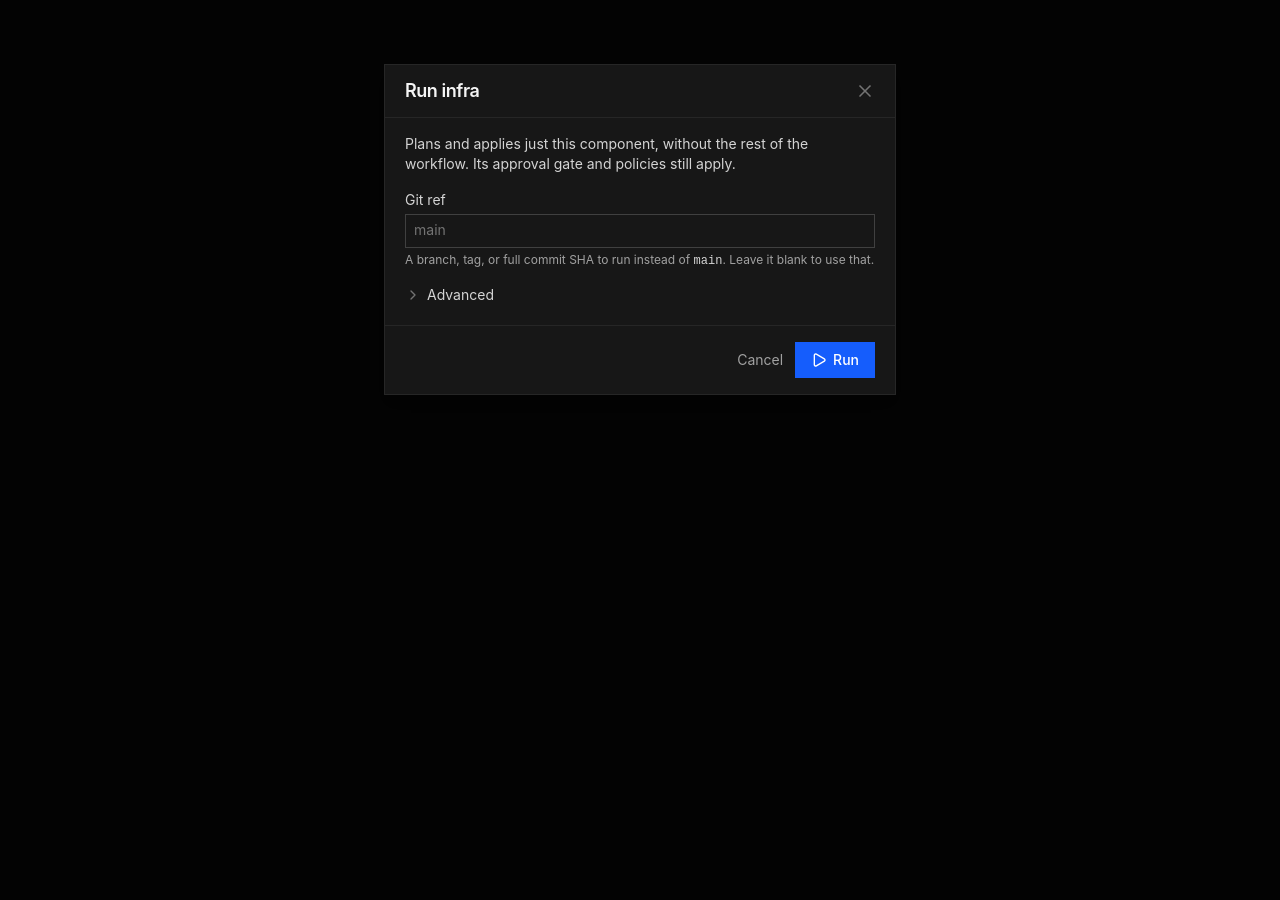
Test case: ComponentRunDialog › says when another run is already in flight
Click the button "Run".
click(835, 360)  # box [795,342,875,378]
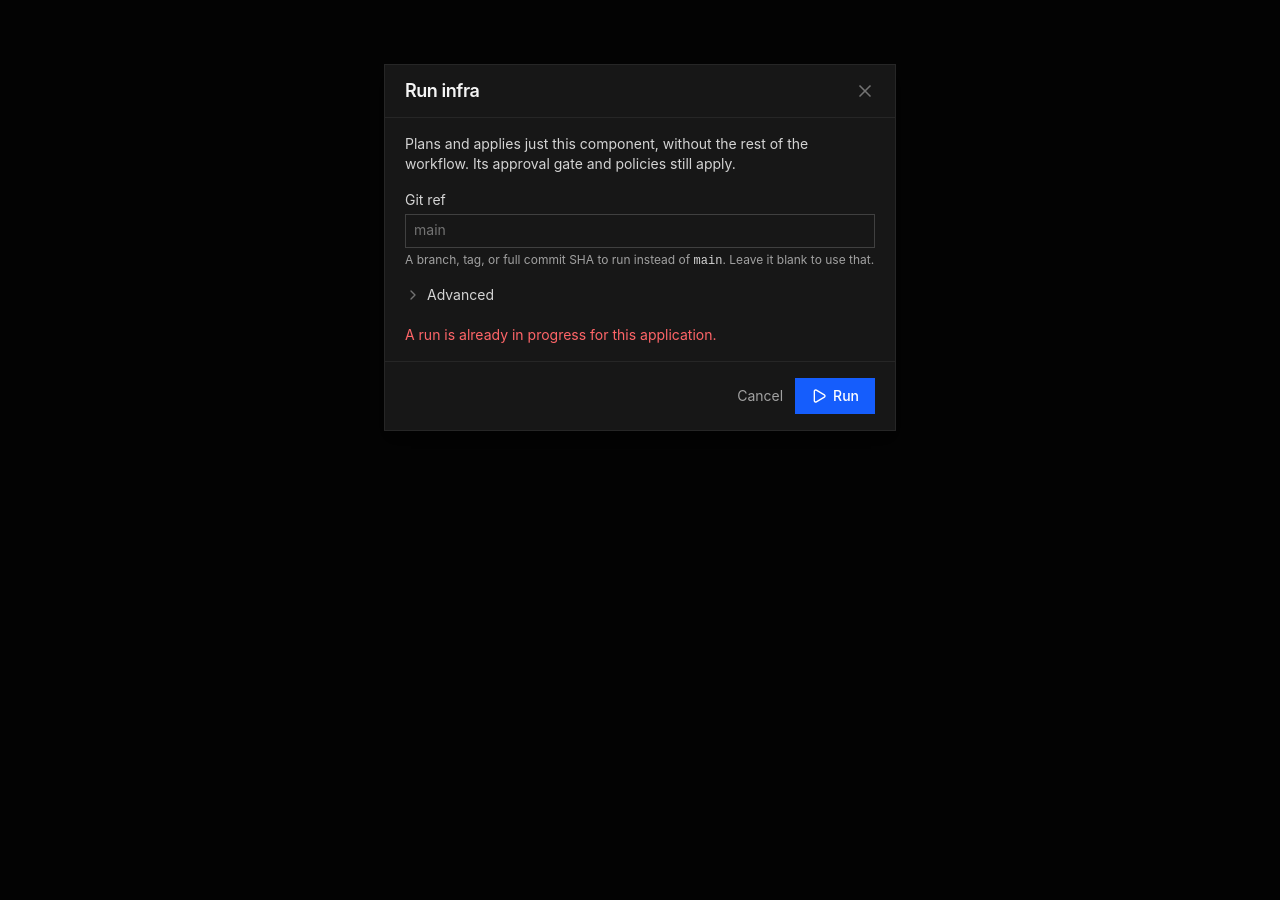
Expected: the text "A run is already in progress for this application." is shown, [405,326,716,343]
